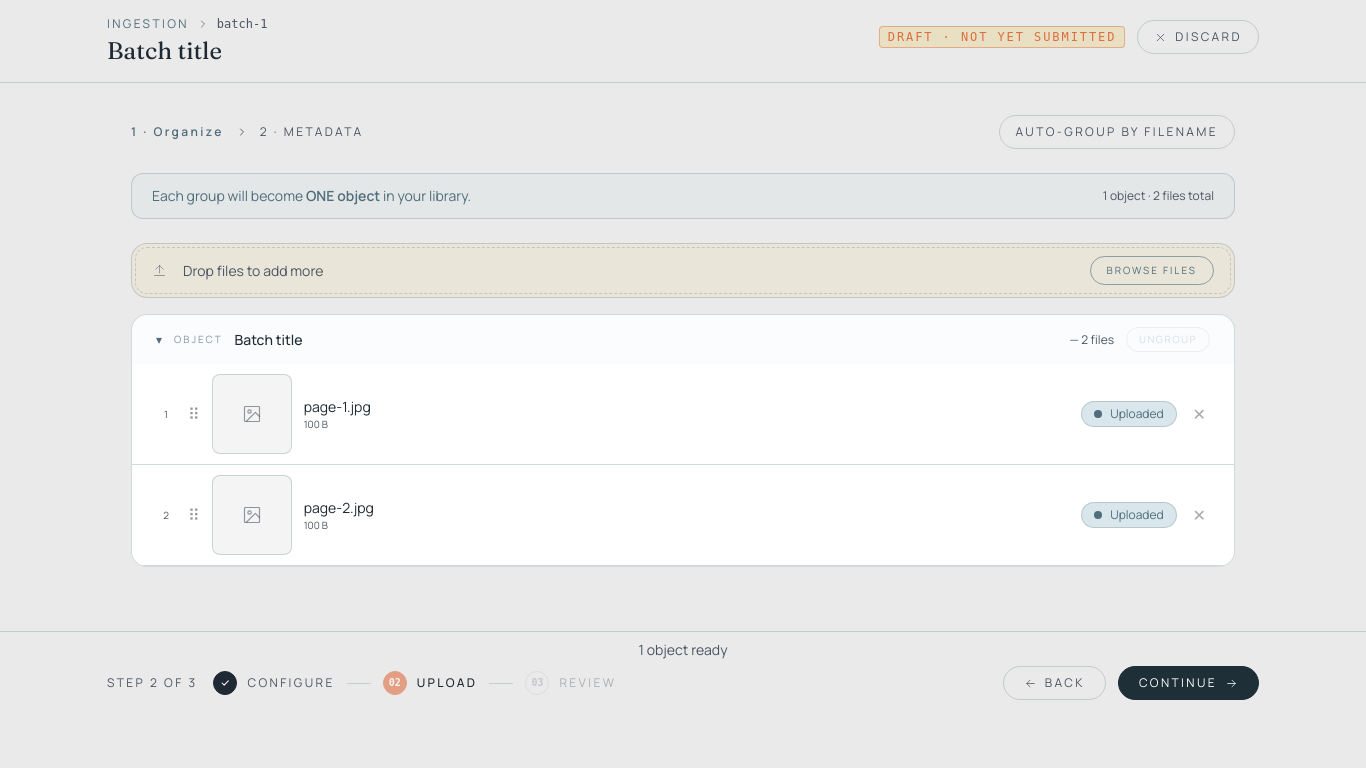
Test: /ingestion/[batchId]/setup +page.svelte › propagates publication date and displays inheritance badges on object cards
This screenshot has width=1366, height=768.
What coordinates should you click on to do the following:
click the button "Continue"
I would click on:
 (1188, 683)
Its box is left=1118, top=666, right=1259, bottom=700.
(page scrolled)
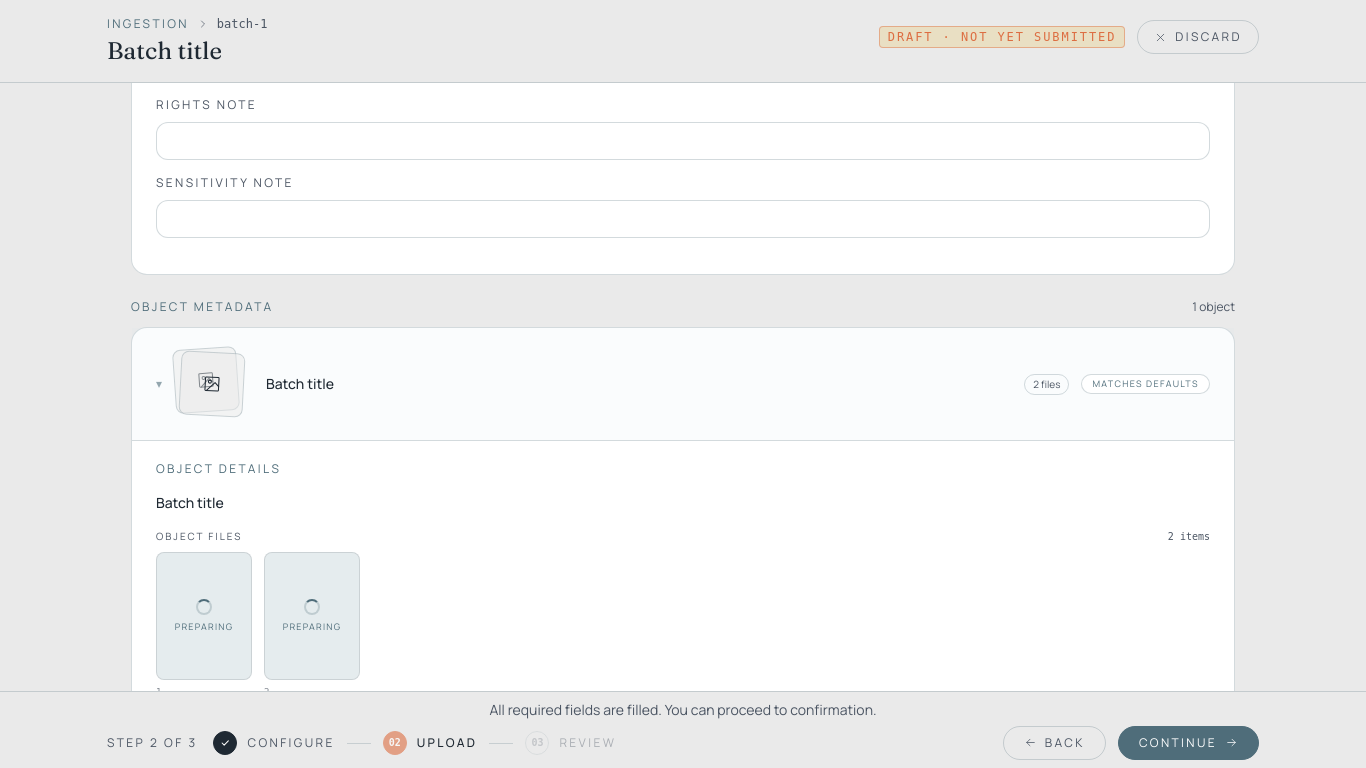
Expected: the text "Matches defaults" is shown, left=1081, top=374, right=1210, bottom=394
